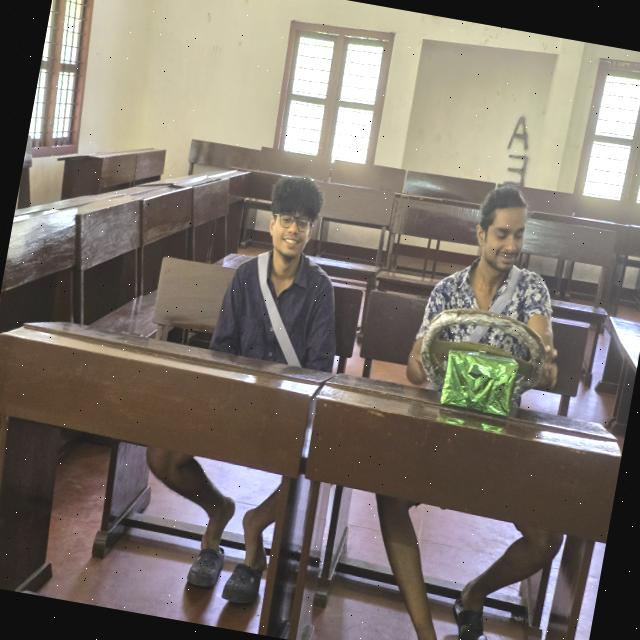seatbelt: (414, 251, 542, 399), (224, 240, 336, 372)
